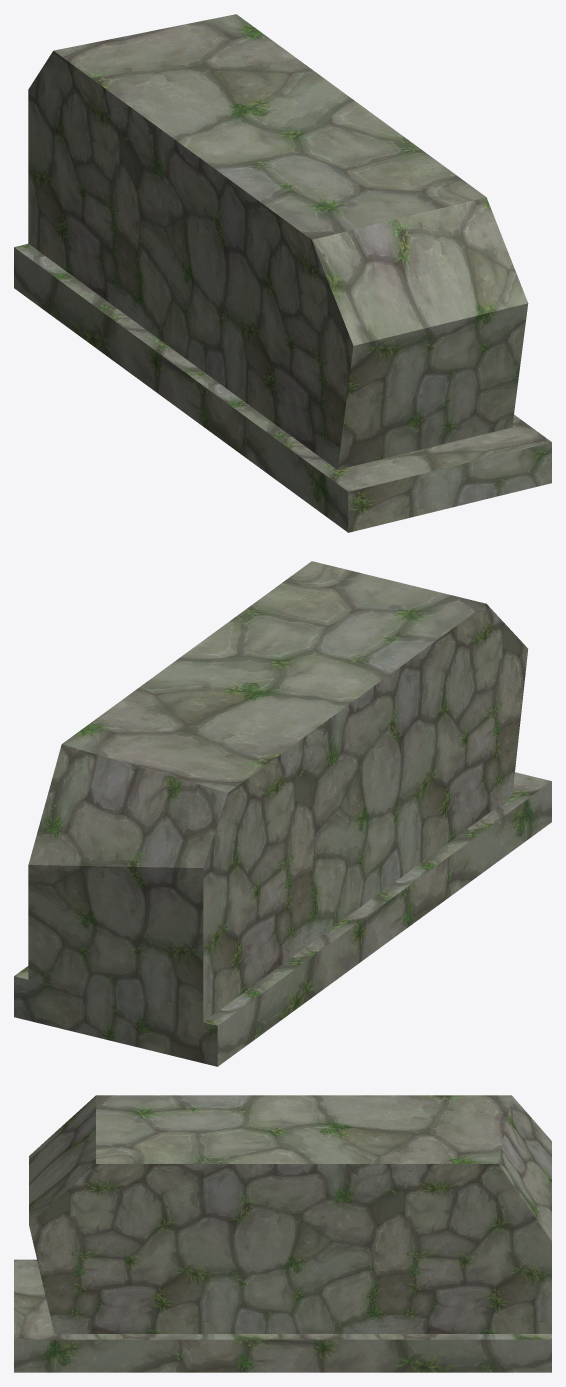
File: Wall_01.glb
The picture shows the model from 3 angles, top to bottom: view 1: azimuth 30°, elevation 25°; view 2: azimuth 150°, elevation 25°; view 3: azimuth 270°, elevation 25°; orthographic projection. The views are drawn at different scales.
Visible parts, largest first — view 1: Wall_01; view 2: Wall_01; view 3: Wall_01.
Boxes of the visible parts, left/top/right/bottom form: Wall_01: left=14, top=14, right=551, bottom=532; Wall_01: left=14, top=561, right=551, bottom=1066; Wall_01: left=14, top=1095, right=551, bottom=1372.
Size of what is drawn, in the model's own units: 2.33 by 2.76 by 6.63.
1 material, 1 textured.
